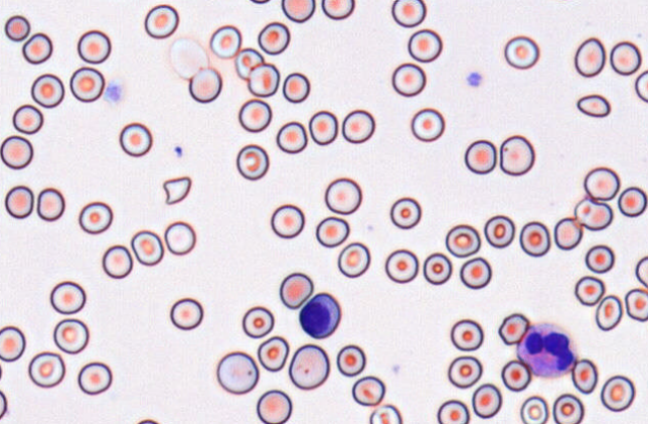GRAN: (518, 322, 576, 379)
LYM: (300, 292, 342, 339)
PLT: (106, 81, 125, 104), (467, 71, 484, 87)
RBC: (288, 343, 329, 390), (216, 351, 259, 394), (499, 134, 534, 175), (28, 351, 65, 388), (324, 177, 361, 214), (53, 318, 89, 354), (600, 375, 635, 412), (574, 197, 613, 230), (256, 389, 292, 424), (69, 66, 104, 102), (279, 272, 313, 309), (583, 166, 620, 200), (574, 37, 605, 77), (144, 4, 179, 39), (188, 67, 222, 103), (49, 280, 85, 314), (503, 35, 539, 69), (130, 229, 163, 266), (236, 143, 269, 180), (384, 248, 418, 283), (77, 361, 112, 395), (407, 28, 442, 62), (270, 203, 304, 238), (30, 73, 64, 108), (77, 29, 111, 64), (410, 107, 444, 142), (337, 241, 370, 277), (257, 335, 289, 372), (391, 62, 425, 96), (341, 109, 375, 143), (447, 355, 482, 388), (0, 134, 33, 169), (445, 224, 480, 257), (78, 201, 113, 234), (257, 21, 290, 55), (169, 297, 203, 330), (238, 98, 271, 132), (119, 122, 152, 156), (247, 62, 279, 97), (164, 220, 196, 255), (609, 40, 641, 75), (464, 139, 496, 174), (519, 221, 550, 257), (241, 305, 274, 338), (450, 318, 483, 351), (209, 24, 241, 58), (483, 214, 515, 248), (471, 383, 502, 418), (459, 256, 491, 289), (389, 196, 421, 229), (351, 375, 385, 406), (101, 244, 132, 278), (315, 216, 349, 247), (308, 110, 338, 145), (553, 216, 583, 250), (595, 294, 622, 331), (498, 313, 529, 345), (21, 32, 52, 64), (276, 121, 307, 153), (234, 47, 264, 80), (422, 252, 452, 285), (36, 187, 65, 221), (571, 358, 598, 394), (574, 275, 605, 306), (501, 359, 531, 391), (552, 393, 584, 423), (336, 344, 365, 377), (4, 185, 33, 218), (391, 0, 426, 27), (617, 186, 647, 217), (12, 104, 43, 134), (0, 325, 25, 362), (584, 244, 614, 273), (282, 72, 310, 103), (624, 287, 648, 321), (576, 93, 610, 117), (436, 399, 469, 423), (520, 395, 548, 423), (281, 0, 315, 22), (4, 14, 30, 41), (369, 403, 402, 423), (321, 0, 355, 19), (634, 69, 648, 102), (635, 255, 648, 288), (0, 388, 7, 420), (134, 418, 161, 424), (540, 0, 586, 3), (248, 0, 271, 4), (0, 358, 3, 383)
Schistocyte: (163, 175, 191, 205)
